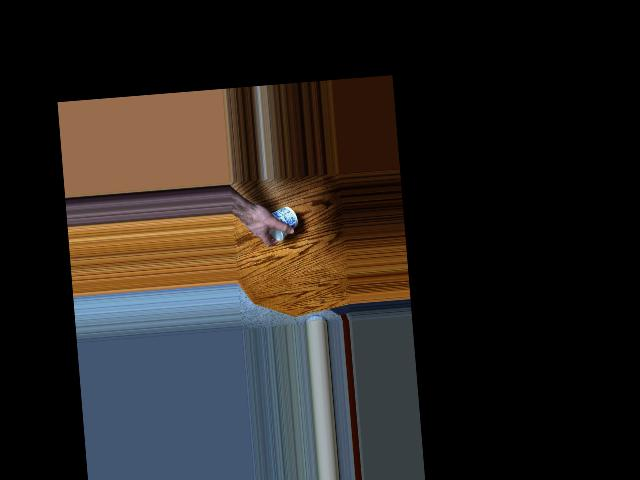cotage: (261, 202, 296, 242)
